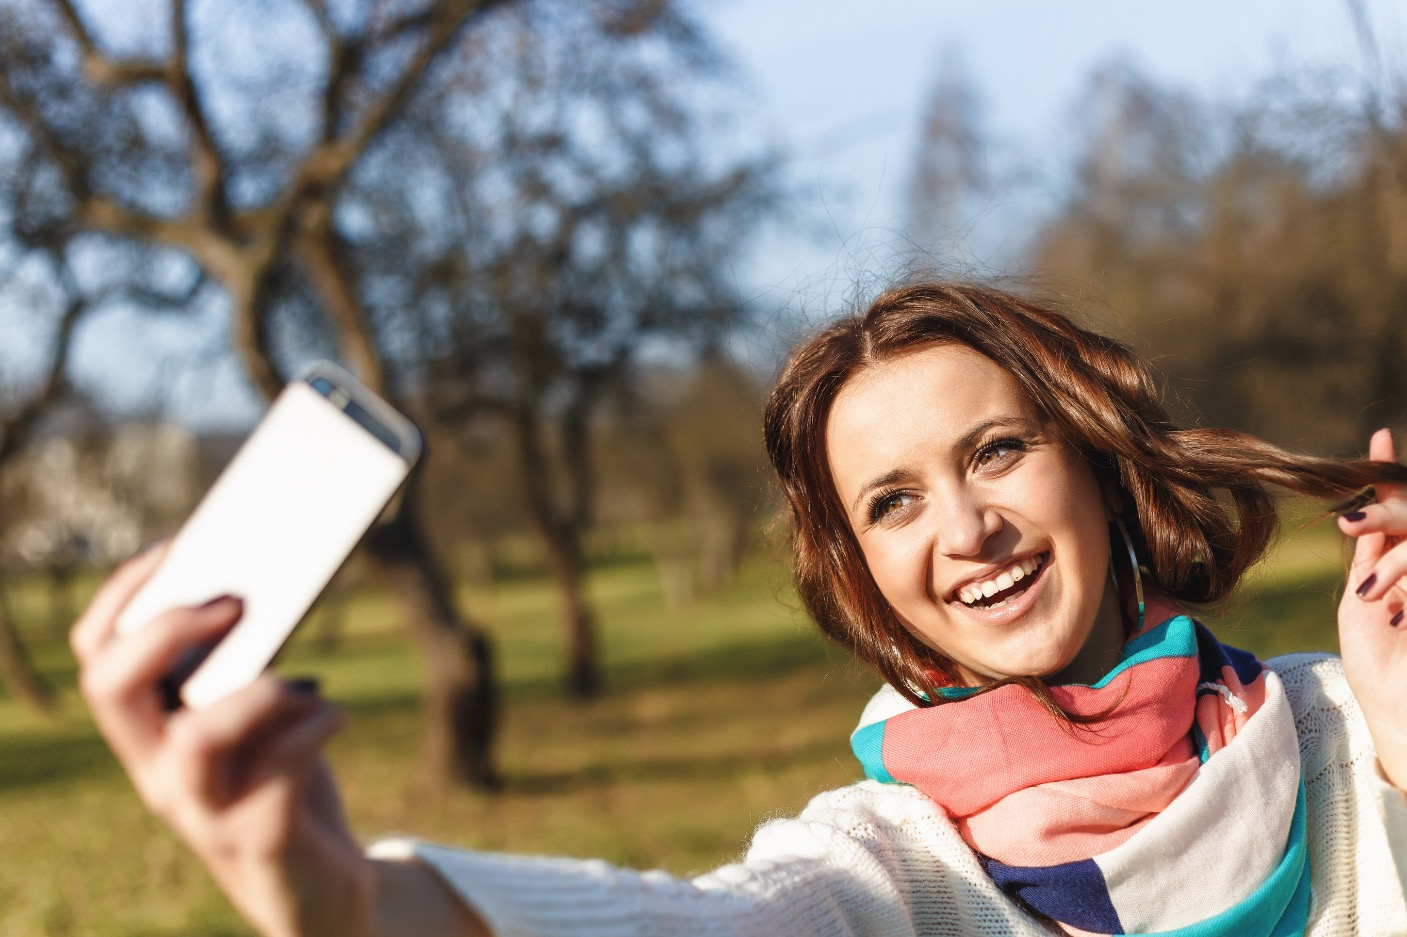face: (827, 344, 1108, 677)
